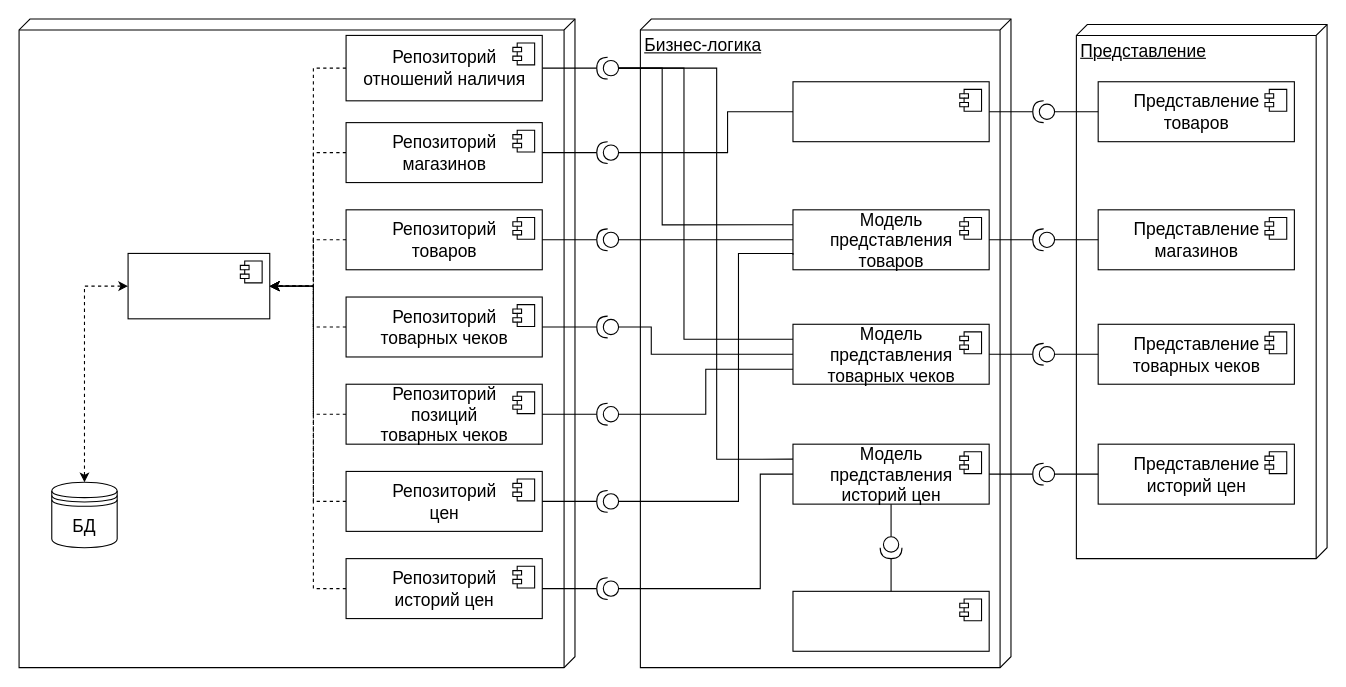
The diagram is 1346 pixels wide and 687 high, and some of its shapes have lost their labels. Here are the shapes that lost their labels. From the top down, the box of each, then its label:
(792, 81, 989, 142): Модель представления магазинов
(127, 252, 270, 319): Контекст данных
(18, 18, 575, 668): Доступ к данным
(792, 590, 989, 651): Компонент построения линии тренда
